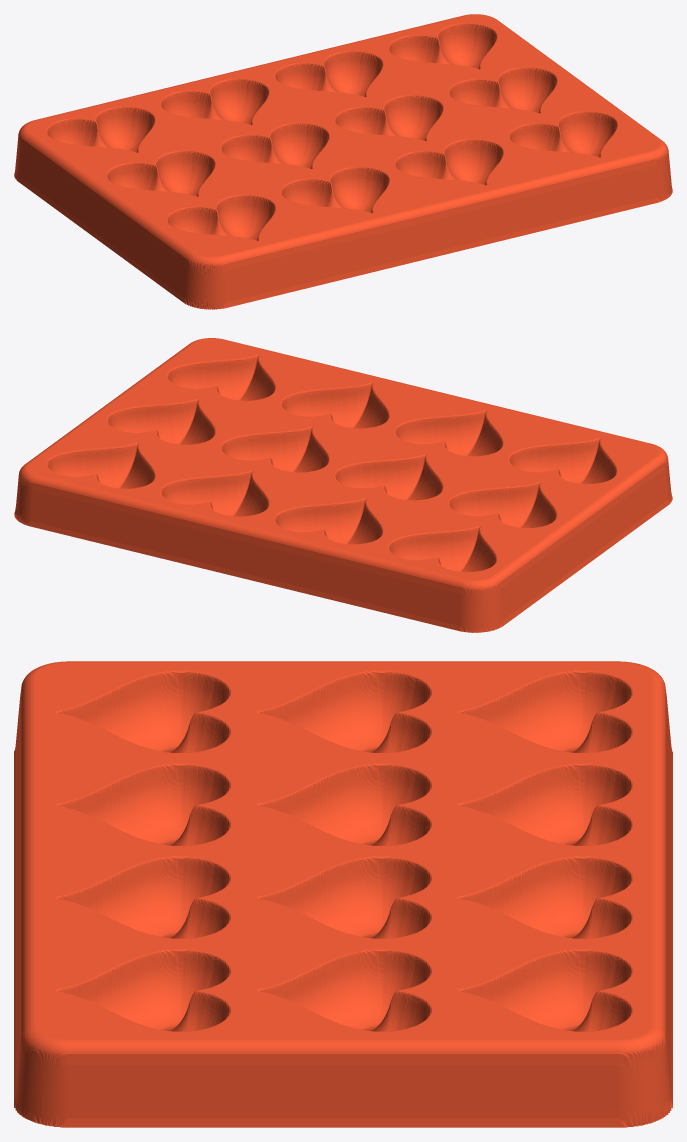
The model's file is mold.glb.
3 views of the same model, one above another, from view 1: azimuth 30°, elevation 25°; view 2: azimuth 150°, elevation 25°; view 3: azimuth 270°, elevation 25° (orthographic). The views are drawn at different scales.
Visible parts, largest first — view 1: geometry_0; view 2: geometry_0; view 3: geometry_0.
Part boxes in pixels (left/top/right/bottom): geometry_0: left=14, top=14, right=672, bottom=309; geometry_0: left=14, top=338, right=672, bottom=632; geometry_0: left=14, top=661, right=672, bottom=1127.
Bounding box in the file's own units: 0.1558 × 0.0145 × 0.1098.
